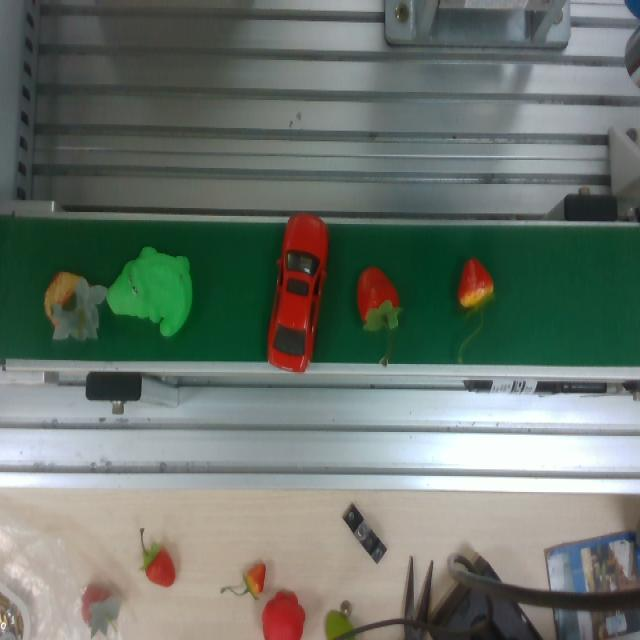Moldy Strawberry: (33, 266, 100, 341)
None - Strawberry: (108, 231, 198, 347), (265, 214, 332, 368)
Small Ripe Strawberry: (350, 262, 412, 330)
Small Unripe Strawberry: (453, 248, 500, 323)
conveyor: (0, 212, 640, 385)
